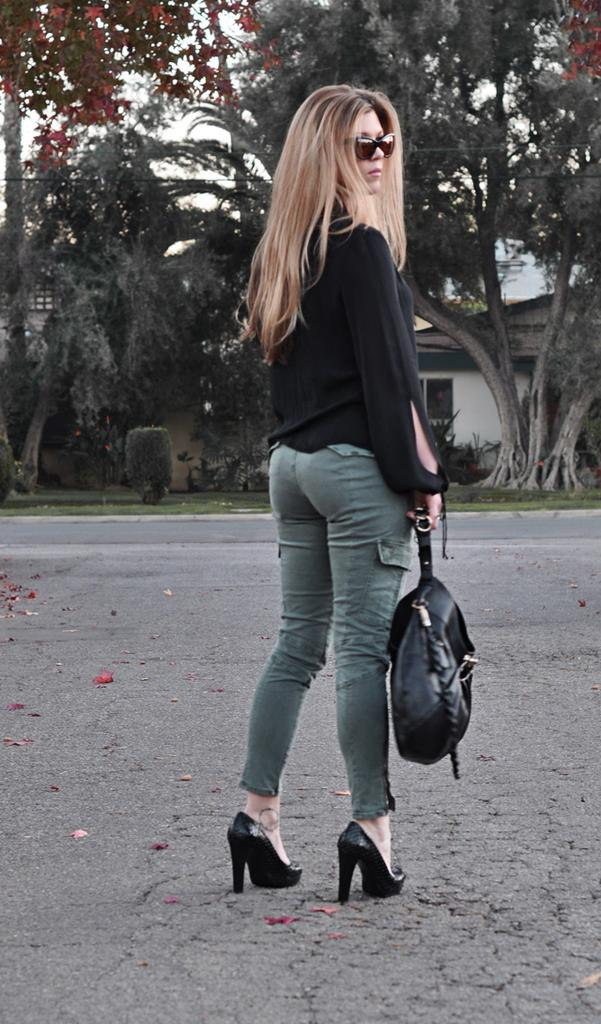no_helmet: (272, 64, 384, 174)
none: (247, 188, 421, 656)
